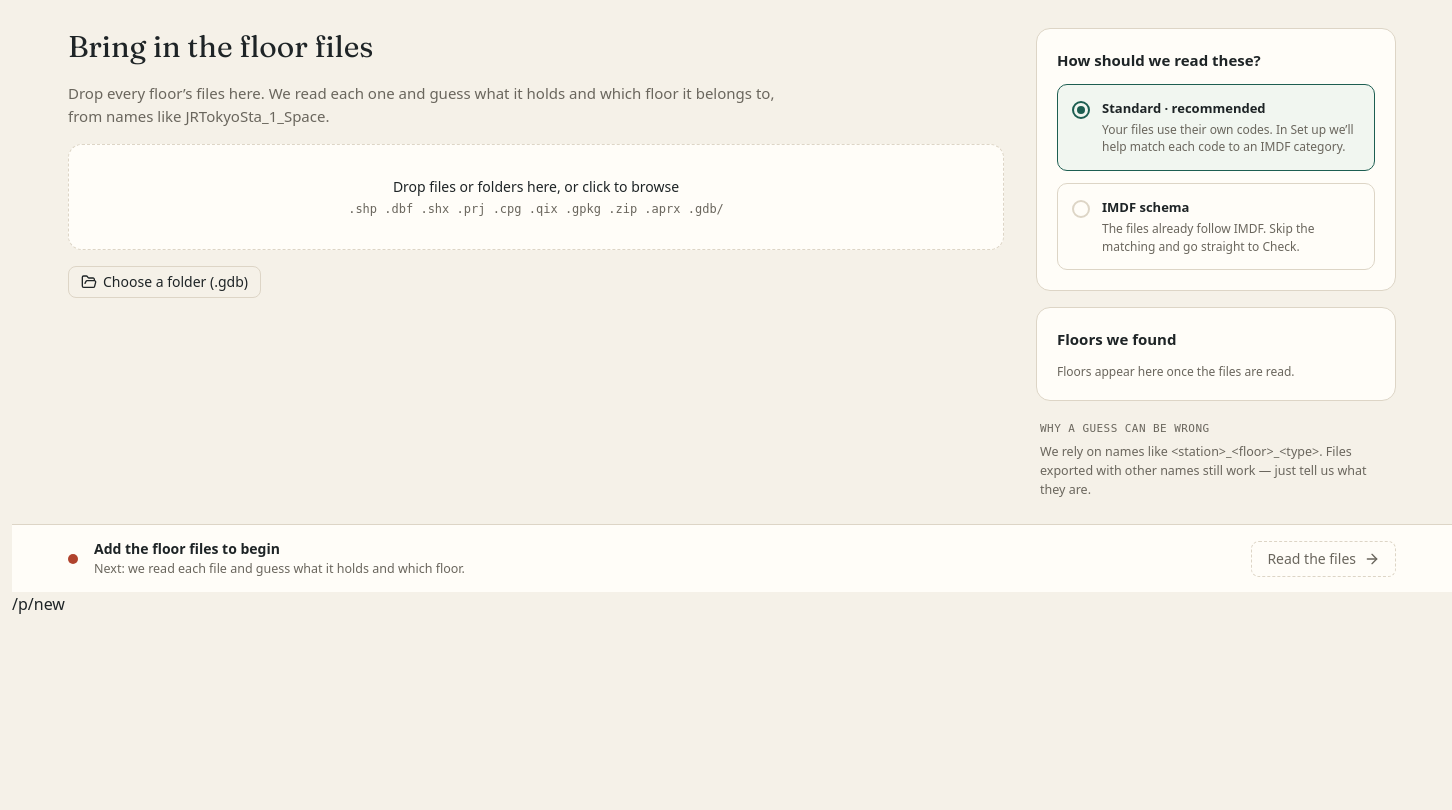
new work › the filename-floor option belongs to IMDF-schema import only
Expected: the text "Prefer the floor in the filename" is not shown
What coordinates should you click on to do the following:
click the radio button named "IMDF schema" next to "IMDF schema"
I would click on:
 (1081, 209)
Its box is [1072,200,1090,218].
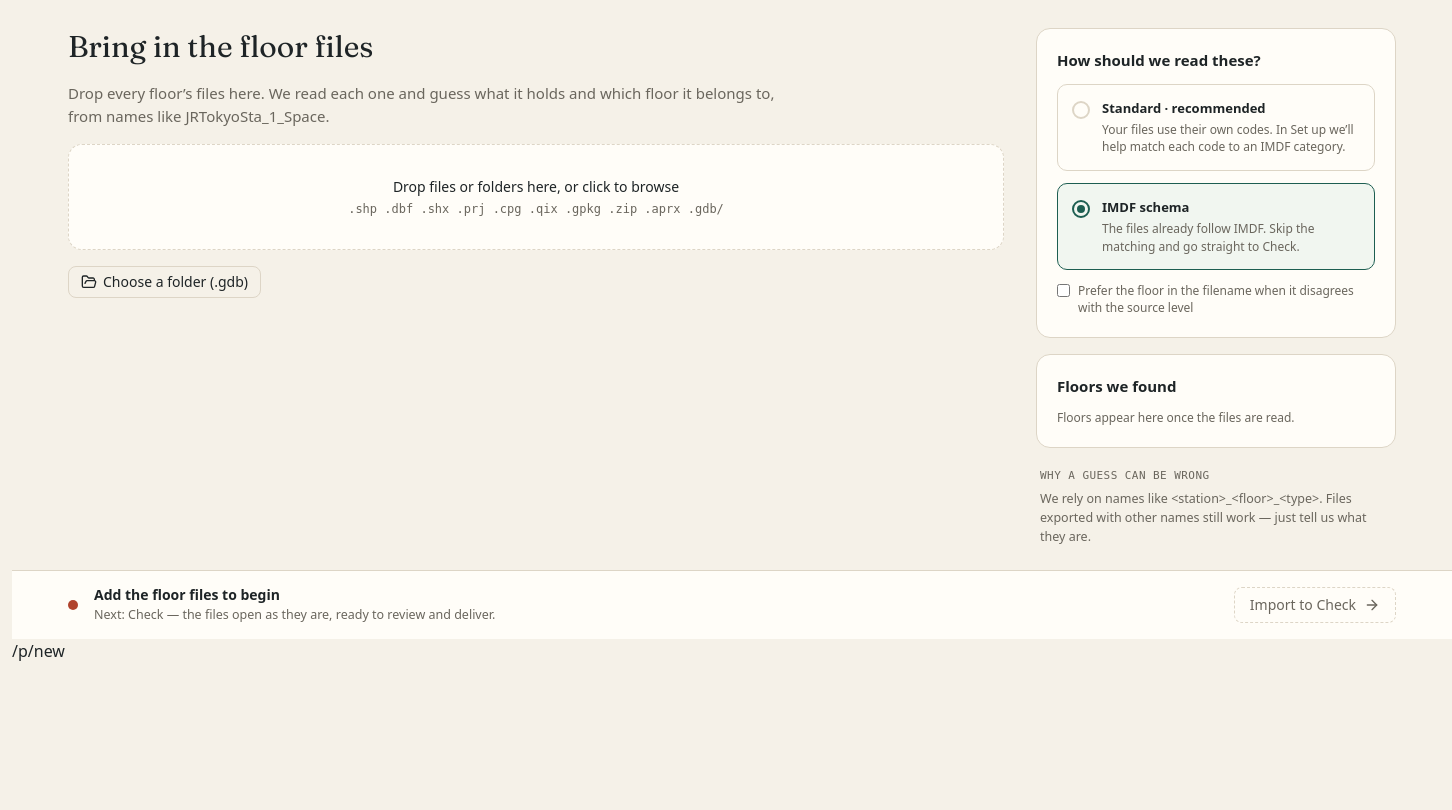
Expected: the text "Prefer the floor in the filename" is shown, [1078,282,1354,316]
Expected: the button "Import to Check" is shown, [1234,587,1396,623]
What coordinates should you click on to do the following:
click the radio button named "Standard" next to "Standard · recommended"
I would click on:
 (1081, 110)
Its box is [1072,100,1090,118].
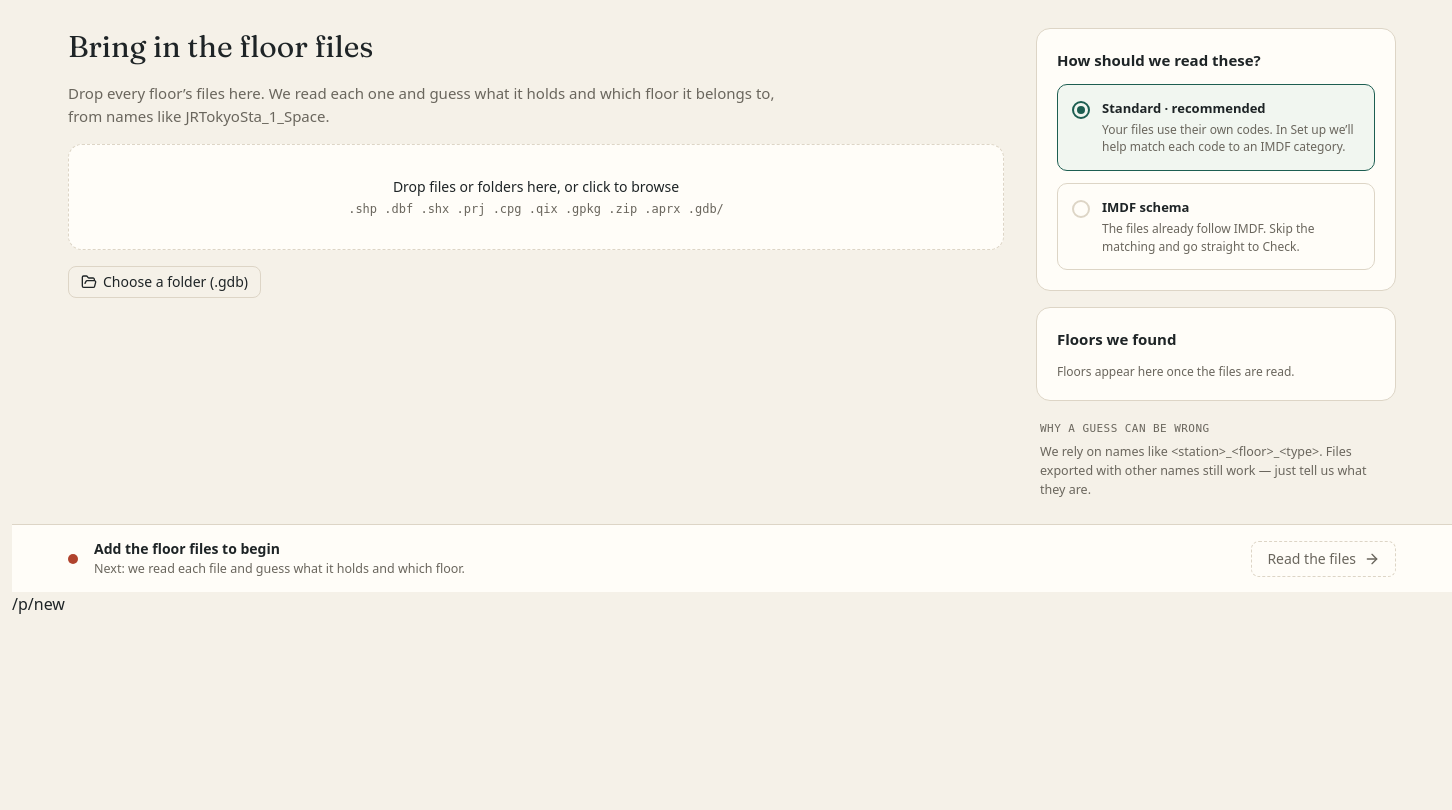
Expected: the text "Prefer the floor in the filename" is gone
Expected: the button "Read the files" is shown, [1251,541,1396,577]
